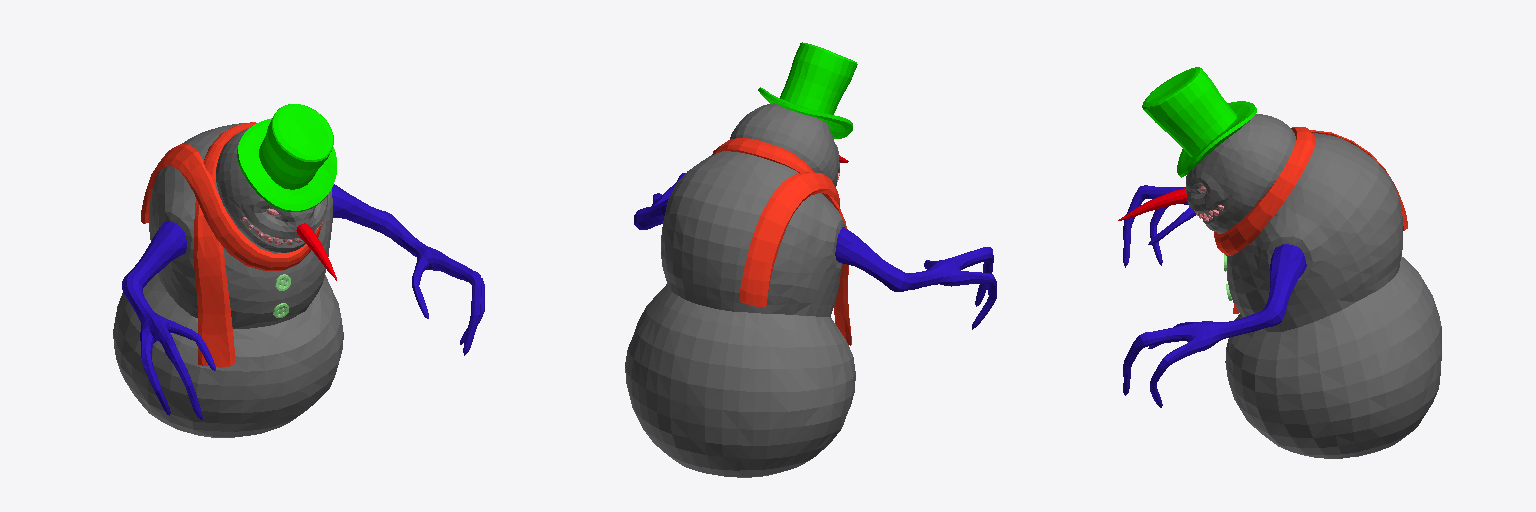
File: SnowmanOBJ.obj
3 views of the same model, side by side, from view 1: azimuth 30°, elevation 25°; view 2: azimuth 150°, elevation 25°; view 3: azimuth 270°, elevation 25° (orthographic).
Parts seen in each view (by area): view 1: Snowman; view 2: Snowman; view 3: Snowman.
Boxes of the visible parts, box(x1,y1,x2,y2) form: Snowman: box(113, 104, 484, 437); Snowman: box(625, 42, 996, 477); Snowman: box(1118, 67, 1441, 458).
Size of the model in its own units: 164 by 167 by 135.